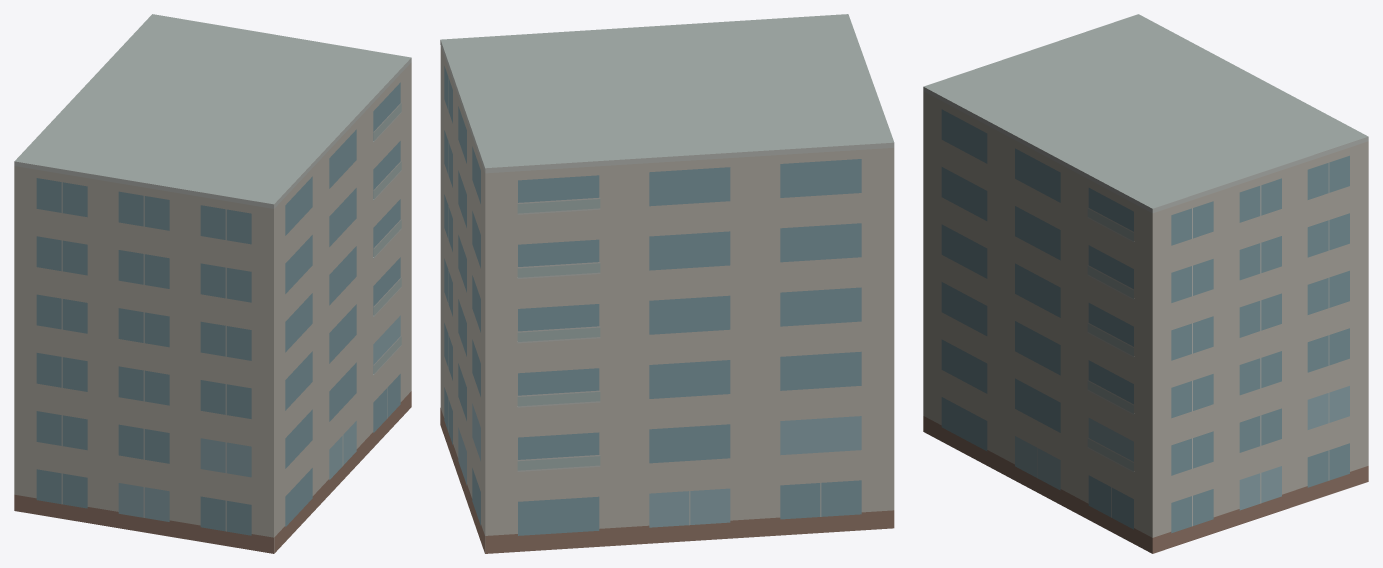
File: survey-upis-32749121.glb
3 renders of one model, left to right at view 1: azimuth 30°, elevation 25°; view 2: azimuth 150°, elevation 25°; view 3: azimuth 270°, elevation 25°, orthographic. The views are drawn at different scales.
Visible parts, largest first — view 1: survey-upis-32749121.tmp; view 2: survey-upis-32749121.tmp; view 3: survey-upis-32749121.tmp.
Boxes of the visible parts, x1,y1,x2,y2 form: survey-upis-32749121.tmp: (14, 14, 411, 553); survey-upis-32749121.tmp: (440, 14, 894, 553); survey-upis-32749121.tmp: (923, 14, 1368, 553).
Bounding box in the file's own units: 22.16 × 18.3 × 21.41.
